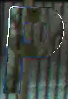Parking: (3, 3, 67, 92)
